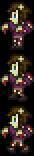zombie: (0, 102, 34, 156), (0, 0, 34, 51), (0, 51, 34, 102)
